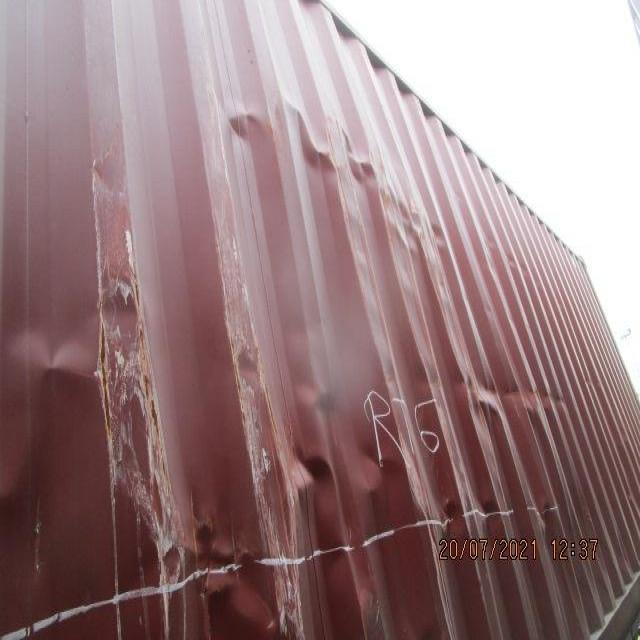dent: (376, 348, 584, 448), (224, 92, 400, 201), (187, 497, 270, 640), (274, 428, 380, 532)
